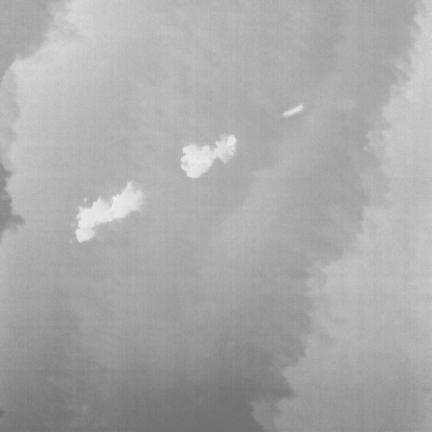flukeprints: (76, 181, 143, 242), (181, 135, 236, 178), (282, 104, 304, 117)
